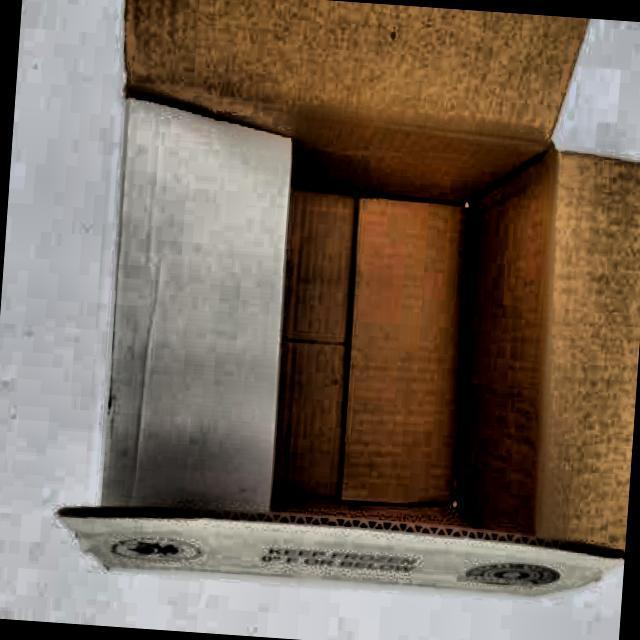cardboard: (50, 0, 640, 609)
